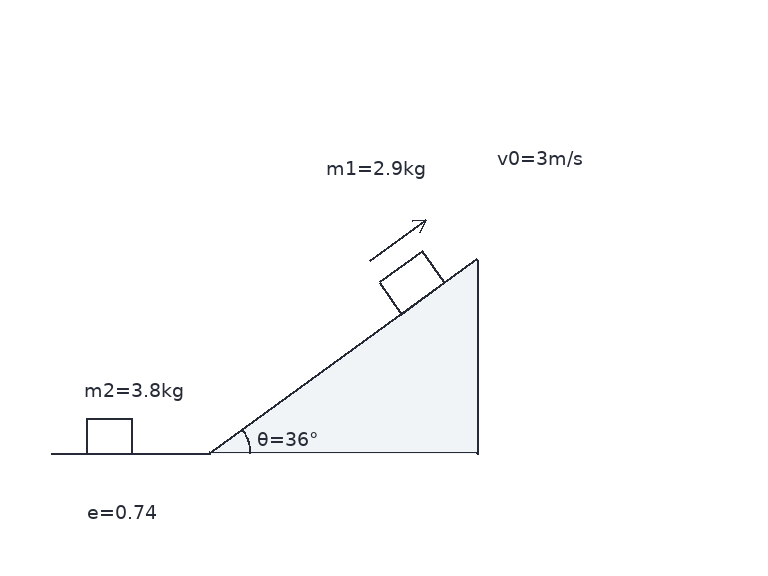block: (376, 249, 446, 316), (84, 417, 134, 455)
ramp: (208, 257, 479, 455)
